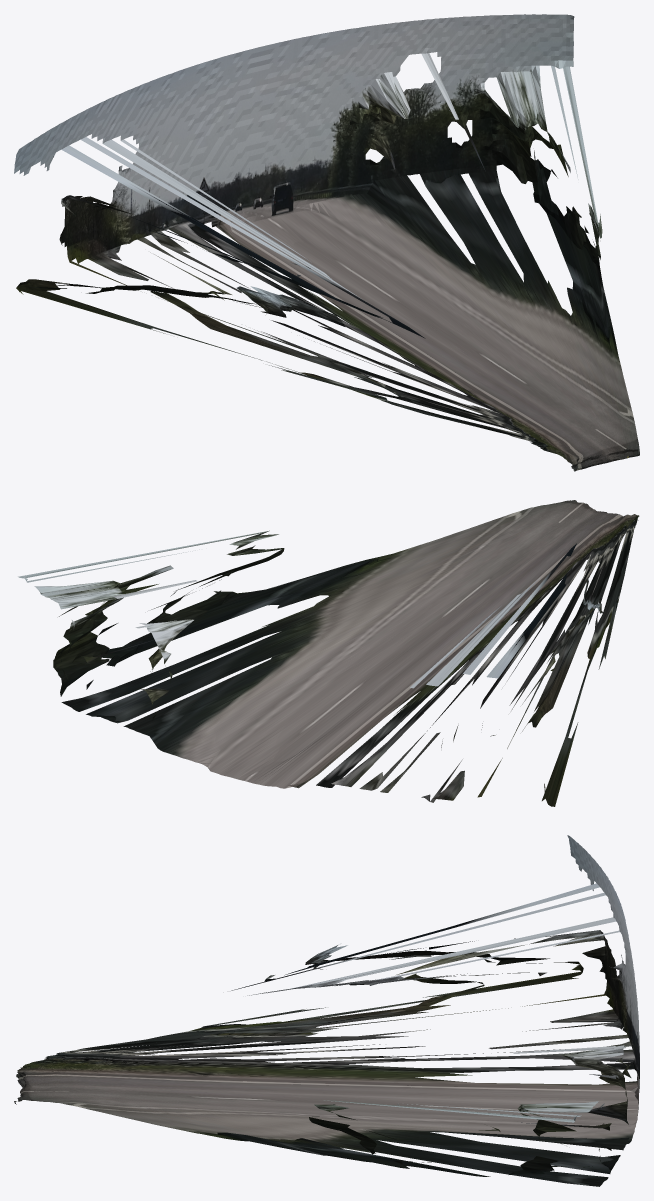
3 renders of one model, top to bottom at view 1: azimuth 30°, elevation 25°; view 2: azimuth 150°, elevation 25°; view 3: azimuth 270°, elevation 25°, orthographic. The views are drawn at different scales.
Parts seen in each view (by area): view 1: defaultobject; view 2: defaultobject; view 3: defaultobject.
Part boxes in pixels (<box>): defaultobject: <box>14,14,639,471</box>; defaultobject: <box>18,500,639,806</box>; defaultobject: <box>14,835,639,1186</box>.
Size of the model in its own units: 40.84 by 12.58 by 44.57.
1 material, 1 textured.
